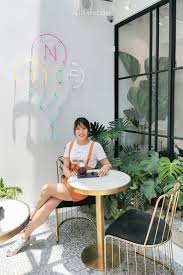people: (6, 116, 111, 246)
